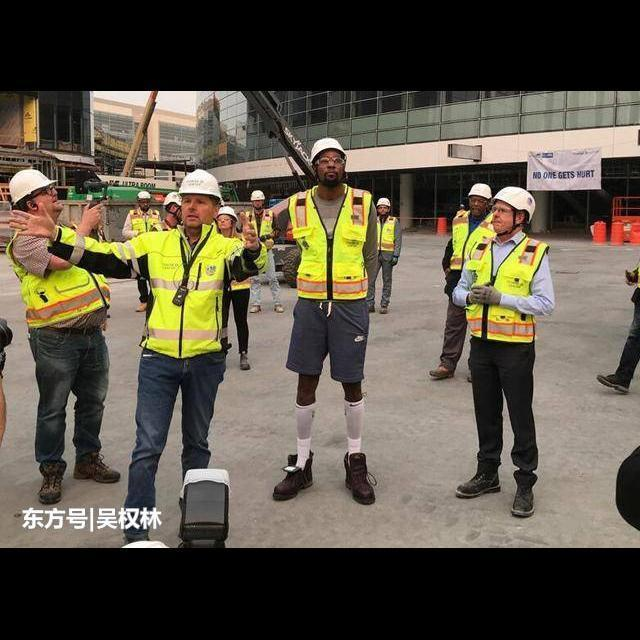Capacete: (9, 169, 56, 203), (494, 186, 534, 221), (179, 169, 221, 199), (311, 137, 345, 162), (468, 183, 491, 199), (218, 206, 237, 221), (163, 192, 181, 207), (250, 190, 265, 201), (376, 197, 390, 207), (137, 190, 150, 199)
Colete: (84, 225, 243, 357), (289, 184, 371, 299), (6, 239, 109, 327), (465, 236, 548, 295), (450, 210, 494, 269), (129, 209, 162, 234), (245, 210, 272, 237), (377, 216, 397, 251), (230, 278, 250, 290)
Pessoa: (11, 169, 265, 512), (273, 138, 376, 503), (452, 187, 554, 516), (7, 234, 119, 503), (429, 183, 493, 379), (597, 265, 639, 393), (245, 190, 283, 312), (367, 197, 401, 313), (223, 279, 250, 369), (122, 190, 162, 239), (0, 318, 12, 445), (163, 192, 181, 229)
